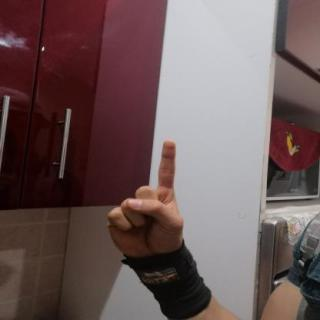BAA: (97, 133, 198, 266)
